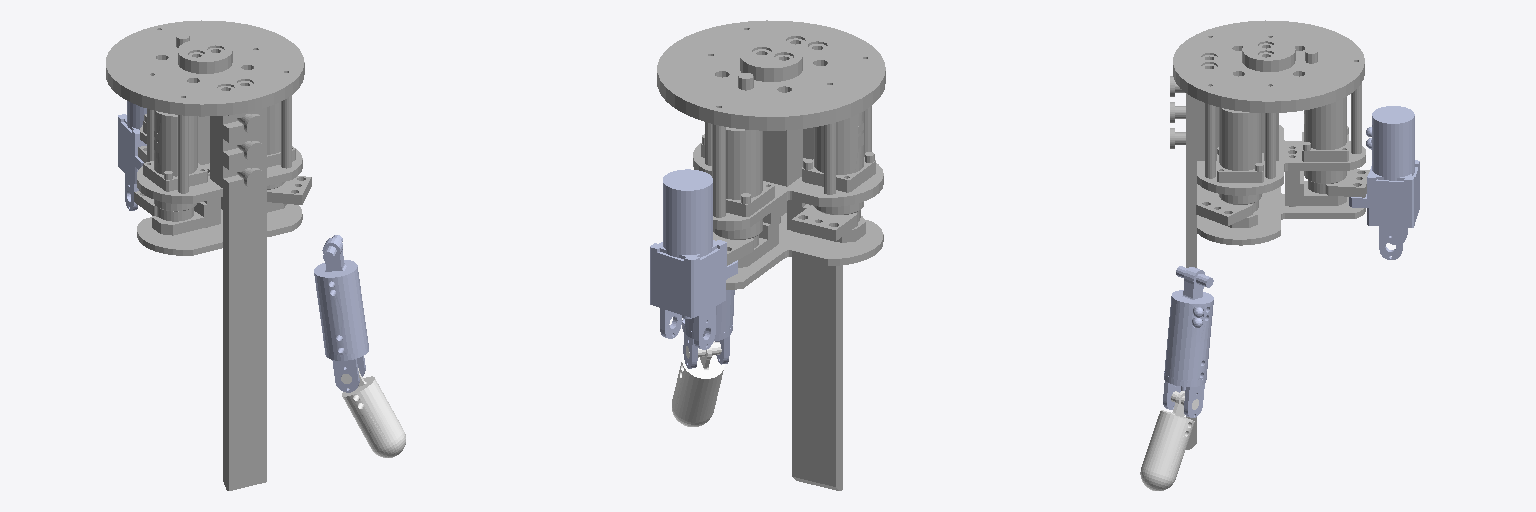
URDF robot description (hand_pa10):
<robot
  name="hand_pa10">
  <link
    name="gripper">
    <inertial>
      <origin
        xyz="0.0368692200186535 0.00525425297379967 -0.00283604582715048"
        rpy="0 0 0" />
      <mass
        value="0.430073369143217" />
      <inertia
        ixx="0.000611744889843359"
        ixy="-2.06001439258417E-06"
        ixz="-1.03208571938051E-06"
        iyy="0.000560583735478907"
        iyz="6.34033786478912E-05"
        izz="0.000343341303407109" />
    </inertial>
    <visual>
      <origin
        xyz="0 0 0"
        rpy="0 0 0" />
      <geometry>
        <mesh
          filename="package://hand_pa10/meshes/gripper.STL" />
      </geometry>
      <material
        name="">
        <color
          rgba="0.752941176470588 0.752941176470588 0.752941176470588 1" />
      </material>
    </visual>
    <collision>
      <origin
        xyz="0 0 0"
        rpy="0 0 0" />
      <geometry>
        <mesh
          filename="package://hand_pa10/meshes/gripper.STL" />
      </geometry>
    </collision>
  </link>
  <link
    name="finger1_link1">
    <inertial>
      <origin
        xyz="0.0031351868708861 3.43093877960832E-10 -0.0314420828468145"
        rpy="0 0 0" />
      <mass
        value="0.0228985256548299" />
      <inertia
        ixx="1.69722454389112E-06"
        ixy="1.68802935817064E-13"
        ixz="-1.05916332117785E-07"
        iyy="6.58697860194868E-06"
        iyz="1.76377793826718E-10"
        izz="6.47543836354742E-06" />
    </inertial>
    <visual>
      <origin
        xyz="0 0 0"
        rpy="0 0 0" />
      <geometry>
        <mesh
          filename="package://hand_pa10/meshes/finger1_link1.STL" />
      </geometry>
      <material
        name="">
        <color
          rgba="0.796078431372549 0.823529411764706 0.937254901960784 1" />
      </material>
    </visual>
    <collision>
      <origin
        xyz="0 0 0"
        rpy="0 0 0" />
      <geometry>
        <mesh
          filename="package://hand_pa10/meshes/finger1_link1.STL" />
      </geometry>
    </collision>
  </link>
  <joint
    name="finger1_joint1"
    type="revolute">
    <origin
      xyz="0.0137666859093576 -0.00328431870897974 -0.0277269520851052"
      rpy="1.5707963267949 -1.5707963267949 0" />
    <parent
      link="gripper" />
    <child
      link="finger1_link1" />
    <axis
      xyz="-1 0 0" />
  </joint>
  <link
    name="finger1_link2">
    <inertial>
      <origin
        xyz="0.0029690080364329 -0.0300000647526269 -0.00396922765369375"
        rpy="0 0 0" />
      <mass
        value="0.014069705744009" />
      <inertia
        ixx="3.39016851778417E-06"
        ixy="-5.98624308681446E-09"
        ixz="1.85438176660523E-09"
        iyy="7.3613270337691E-07"
        iyz="3.48728165404213E-07"
        izz="3.36330831860887E-06" />
    </inertial>
    <visual>
      <origin
        xyz="0 0 0"
        rpy="0 0 0" />
      <geometry>
        <mesh
          filename="package://hand_pa10/meshes/finger1_link2.STL" />
      </geometry>
      <material
        name="">
        <color
          rgba="0.796078431372549 0.823529411764706 0.937254901960784 1" />
      </material>
    </visual>
    <collision>
      <origin
        xyz="0 0 0"
        rpy="0 0 0" />
      <geometry>
        <mesh
          filename="package://hand_pa10/meshes/finger1_link2.STL" />
      </geometry>
    </collision>
  </link>
  <joint
    name="finger1_joint2"
    type="revolute">
    <origin
      xyz="-0.0300000000000157 0.00299999209212372 -0.0320000000000012"
      rpy="0 0 -1.5707963267949" />
    <parent
      link="finger1_link1" />
    <child
      link="finger1_link2" />
    <axis
      xyz="-1 0 0" />
  </joint>
  <link
    name="finger1_link3">
    <inertial>
      <origin
        xyz="0.00780000046621755 -0.0232631748418236 -0.0059211764353593"
        rpy="0 0 0" />
      <mass
        value="0.007947080533762" />
      <inertia
        ixx="1.11971182866768E-06"
        ixy="1.73533620391586E-14"
        ixz="-2.12743518794951E-14"
        iyy="3.23711488257812E-07"
        iyz="2.02591786363567E-07"
        izz="1.06809021167733E-06" />
    </inertial>
    <visual>
      <origin
        xyz="0 0 0"
        rpy="0 0 0" />
      <geometry>
        <mesh
          filename="package://hand_pa10/meshes/finger1_link3.STL" />
      </geometry>
      <material
        name="">
        <color
          rgba="1 1 1 1" />
      </material>
    </visual>
    <collision>
      <origin
        xyz="0 0 0"
        rpy="0 0 0" />
      <geometry>
        <mesh
          filename="package://hand_pa10/meshes/finger1_link3.STL" />
      </geometry>
    </collision>
  </link>
  <joint
    name="finger1_joint3"
    type="revolute">
    <origin
      xyz="-0.00479999999996626 -0.0607260484127808 -0.00799798324356139"
      rpy="0 0 0" />
    <parent
      link="finger1_link2" />
    <child
      link="finger1_link3" />
    <axis
      xyz="-1 0 0" />
  </joint>
  <link
    name="finger2_link1">
    <inertial>
      <origin
        xyz="0.00813518969691906 -0.0233122544536928 0.0210984199219801"
        rpy="0 0 0" />
      <mass
        value="0.0228985289262227" />
      <inertia
        ixx="1.69722463098816E-06"
        ixy="-7.85299345145062E-08"
        ixz="7.10721564891137E-08"
        iyy="6.52583889835164E-06"
        iyz="-5.55112197092287E-08"
        izz="6.53658073146773E-06" />
    </inertial>
    <visual>
      <origin
        xyz="0 0 0"
        rpy="0 0 0" />
      <geometry>
        <mesh
          filename="package://hand_pa10/meshes/finger2_link1.STL" />
      </geometry>
      <material
        name="">
        <color
          rgba="0.796078431372549 0.823529411764706 0.937254901960784 1" />
      </material>
    </visual>
    <collision>
      <origin
        xyz="0 0 0"
        rpy="0 0 0" />
      <geometry>
        <mesh
          filename="package://hand_pa10/meshes/finger2_link1.STL" />
      </geometry>
    </collision>
  </link>
  <joint
    name="finger2_joint1"
    type="revolute">
    <origin
      xyz="0.0597666859093572 -0.00328431870898067 -0.0327269520851049"
      rpy="1.5707963267949 -1.5707963267949 0" />
    <parent
      link="gripper" />
    <child
      link="finger2_link1" />
    <axis
      xyz="-1 0 0" />
  </joint>
  <link
    name="finger2_link2">
    <inertial>
      <origin
        xyz="-0.00296900741373066 -0.0300000644997642 0.00396922670150728"
        rpy="0 0 0" />
      <mass
        value="0.014069704264772" />
      <inertia
        ixx="3.39016841693393E-06"
        ixy="5.98630832974388E-09"
        ixz="1.8542648092117E-09"
        iyy="7.36132641139324E-07"
        iyz="-3.48728124003475E-07"
        izz="3.36330823326152E-06" />
    </inertial>
    <visual>
      <origin
        xyz="0 0 0"
        rpy="0 0 0" />
      <geometry>
        <mesh
          filename="package://hand_pa10/meshes/finger2_link2.STL" />
      </geometry>
      <material
        name="">
        <color
          rgba="0.796078431372549 0.823529411764706 0.937254901960784 1" />
      </material>
    </visual>
    <collision>
      <origin
        xyz="0 0 0"
        rpy="0 0 0" />
      <geometry>
        <mesh
          filename="package://hand_pa10/meshes/finger2_link2.STL" />
      </geometry>
    </collision>
  </link>
  <joint
    name="finger2_joint2"
    type="revolute">
    <origin
      xyz="-0.0250000000003419 -0.0257389798929167 0.0192485021684102"
      rpy="-2.59337749764974E-14 0.835206077698823 -1.57079632679493" />
    <parent
      link="finger2_link1" />
    <child
      link="finger2_link2" />
    <axis
      xyz="-1 0 0" />
  </joint>
  <link
    name="finger2_link3">
    <inertial>
      <origin
        xyz="0.000910000644182382 -0.0211274199890509 -0.011395956731729"
        rpy="0 0 0" />
      <mass
        value="0.00794707927793731" />
      <inertia
        ixx="1.11971171392873E-06"
        ixy="3.24957036261576E-14"
        ixz="-7.6733211794228E-15"
        iyy="4.63151561761394E-07"
        iyz="3.54113135639111E-07"
        izz="9.28649982144146E-07" />
    </inertial>
    <visual>
      <origin
        xyz="0 0 0"
        rpy="0 0 0" />
      <geometry>
        <mesh
          filename="package://hand_pa10/meshes/finger2_link3.STL" />
      </geometry>
      <material
        name="">
        <color
          rgba="1 1 1 1" />
      </material>
    </visual>
    <collision>
      <origin
        xyz="0 0 0"
        rpy="0 0 0" />
      <geometry>
        <mesh
          filename="package://hand_pa10/meshes/finger2_link3.STL" />
      </geometry>
    </collision>
  </link>
  <joint
    name="finger2_joint3"
    type="revolute">
    <origin
      xyz="-0.00209000000025145 -0.0607260484130769 0.00799798324351299"
      rpy="-3.14159265358979 -7.21644966006352E-16 -3.14159265358978" />
    <parent
      link="finger2_link2" />
    <child
      link="finger2_link3" />
    <axis
      xyz="-1 0 0" />
  </joint>
  <link
    name="finger3_link1">
    <inertial>
      <origin
        xyz="0.00813518699463836 -0.00419704568040072 -0.0311607024898838"
        rpy="0 0 0" />
      <mass
        value="0.0228985257973257" />
      <inertia
        ixx="1.69722454767862E-06"
        ixy="-1.41380911524761E-08"
        ixz="-1.04968476254267E-07"
        iyy="6.58494454481E-06"
        iyz="1.49257889291558E-08"
        izz="6.47747253640222E-06" />
    </inertial>
    <visual>
      <origin
        xyz="0 0 0"
        rpy="0 0 0" />
      <geometry>
        <mesh
          filename="package://hand_pa10/meshes/finger3_link1.STL" />
      </geometry>
      <material
        name="">
        <color
          rgba="0.796078431372549 0.823529411764706 0.937254901960784 1" />
      </material>
    </visual>
    <collision>
      <origin
        xyz="0 0 0"
        rpy="0 0 0" />
      <geometry>
        <mesh
          filename="package://hand_pa10/meshes/finger3_link1.STL" />
      </geometry>
    </collision>
  </link>
  <joint
    name="finger3_joint1"
    type="revolute">
    <origin
      xyz="0.0367666859093572 0.0365528498651035 -0.0327269520851049"
      rpy="1.5707963267949 -1.5707963267949 0" />
    <parent
      link="gripper" />
    <child
      link="finger3_link1" />
    <axis
      xyz="-1 0 0" />
  </joint>
  <link
    name="finger3_link2">
    <inertial>
      <origin
        xyz="0.00296900664868397 -0.029363399647319 -0.00731775296216776"
        rpy="0 0 0" />
      <mass
        value="0.0140697055602007" />
      <inertia
        ixx="3.39016825447209E-06"
        ixy="-6.1568442744597E-09"
        ixz="1.16934010430556E-09"
        iyy="8.47293152926664E-07"
        iyz="6.33476686297977E-07"
        izz="3.25214781964137E-06" />
    </inertial>
    <visual>
      <origin
        xyz="0 0 0"
        rpy="0 0 0" />
      <geometry>
        <mesh
          filename="package://hand_pa10/meshes/finger3_link2.STL" />
      </geometry>
      <material
        name="">
        <color
          rgba="0.796078431372549 0.823529411764706 0.937254901960784 1" />
      </material>
    </visual>
    <collision>
      <origin
        xyz="0 0 0"
        rpy="0 0 0" />
      <geometry>
        <mesh
          filename="package://hand_pa10/meshes/finger3_link2.STL" />
      </geometry>
    </collision>
  </link>
  <joint
    name="finger3_joint2"
    type="revolute">
    <origin
      xyz="-0.0250000000001125 -0.00129836703277455 -0.0321140816939701"
      rpy="-2.24991512875808E-15 -0.133884609516019 -1.57079632679488" />
    <parent
      link="finger3_link1" />
    <child
      link="finger3_link2" />
    <axis
      xyz="-1 0 0" />
  </joint>
  <link
    name="finger3_link3">
    <inertial>
      <origin
        xyz="-0.000910000447797862 0.000942710404951211 0.0239863911643955"
        rpy="0 0 0" />
      <mass
        value="0.00794707983552393" />
      <inertia
        ixx="1.11971177478374E-06"
        ixy="-2.22588162763174E-14"
        ixz="2.40986012998605E-14"
        iyy="1.11834876628532E-06"
        iyz="3.32574549414362E-08"
        izz="2.73452856963055E-07" />
    </inertial>
    <visual>
      <origin
        xyz="0 0 0"
        rpy="0 0 0" />
      <geometry>
        <mesh
          filename="package://hand_pa10/meshes/finger3_link3.STL" />
      </geometry>
      <material
        name="">
        <color
          rgba="1 1 1 1" />
      </material>
    </visual>
    <collision>
      <origin
        xyz="0 0 0"
        rpy="0 0 0" />
      <geometry>
        <mesh
          filename="package://hand_pa10/meshes/finger3_link3.STL" />
      </geometry>
    </collision>
  </link>
  <joint
    name="finger3_joint3"
    type="revolute">
    <origin
      xyz="0.00209000000462149 -0.0594414160536562 -0.014776290133899"
      rpy="3.14159265358979 -1.94289029309402E-15 3.14159265358978" />
    <parent
      link="finger3_link2" />
    <child
      link="finger3_link3" />
    <axis
      xyz="-1 0 0" />
  </joint>
</robot>

--- Render facts (derived) ---
3 views of the same robot in one strip: view 1: azimuth 30°, elevation 25°; view 2: azimuth 150°, elevation 25°; view 3: azimuth 270°, elevation 25° (orthographic).
Robot: hand_pa10 — 10 links, 9 joints (9 revolute); root link gripper; default pose: all joints at 0.
Links seen in each view (by area): view 1: gripper, finger2_link2, finger2_link3, finger3_link1; view 2: gripper, finger3_link1, finger2_link3, finger2_link2; view 3: gripper, finger3_link1, finger2_link2, finger2_link3.
Boxes of the visible links, x1=… form: gripper: x1=106, y1=20, x2=311, y2=490; finger2_link2: x1=314, y1=235, x2=368, y2=392; finger2_link3: x1=341, y1=368, x2=405, y2=457; finger3_link1: x1=118, y1=101, x2=146, y2=210; gripper: x1=657, y1=20, x2=885, y2=490; finger3_link1: x1=650, y1=169, x2=737, y2=349; finger2_link3: x1=672, y1=342, x2=724, y2=426; finger2_link2: x1=682, y1=290, x2=734, y2=368; gripper: x1=1170, y1=20, x2=1369, y2=449; finger3_link1: x1=1349, y1=106, x2=1419, y2=259; finger2_link2: x1=1163, y1=266, x2=1213, y2=417; finger2_link3: x1=1140, y1=391, x2=1198, y2=490.
Size in the robot's own frame: 0.1189 by 0.1307 by 0.202 metres.
4 mesh visuals loaded from 10 distinct referenced files (4 binary STL); not drawn: 6 (reference not matched to a file when rendering).